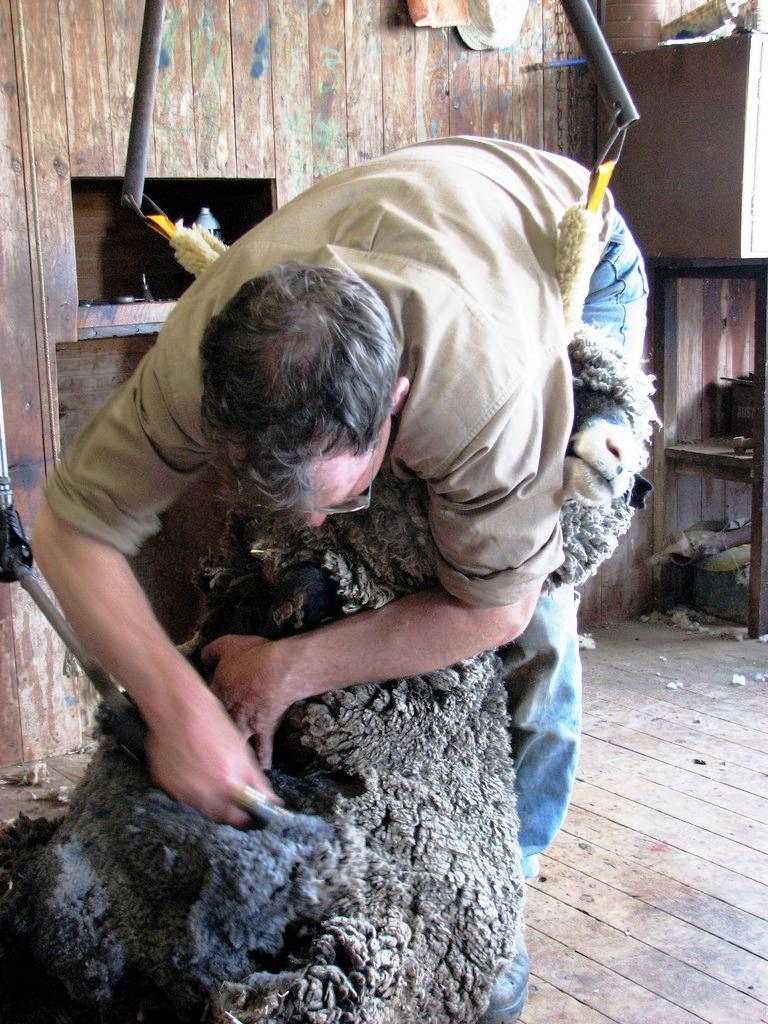Sheep: (0, 323, 675, 1023)
